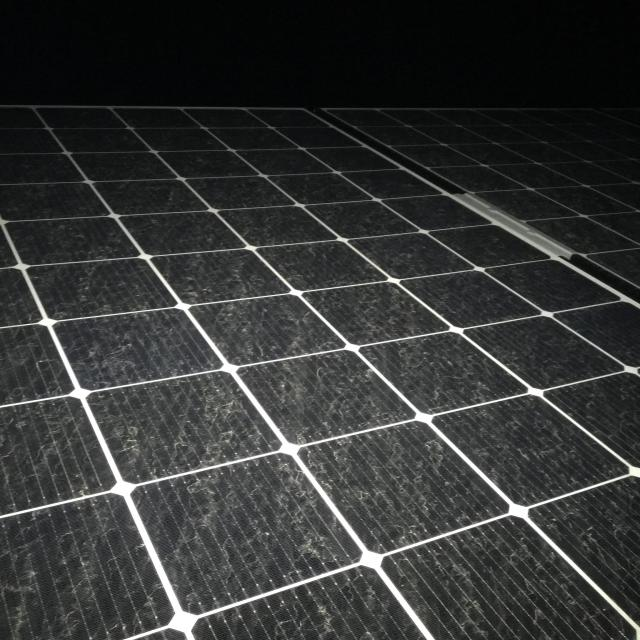dust-solar-panel: (2, 106, 638, 640)
